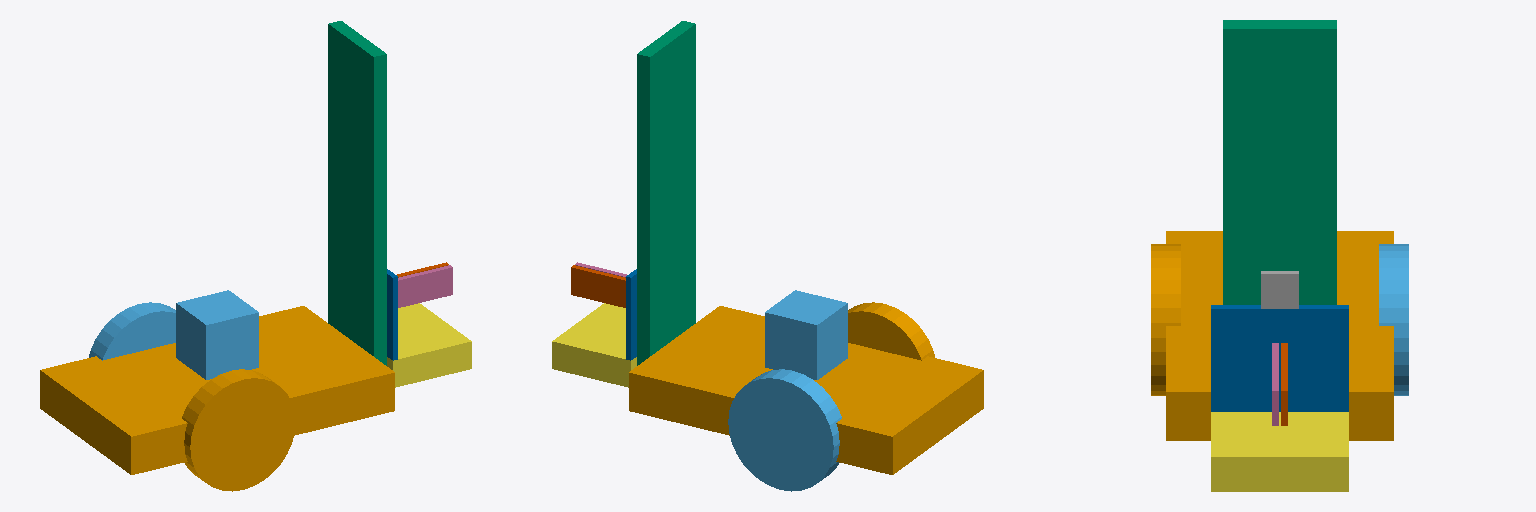
robot.urdf — lib_bot:
<?xml version="1.0" ?>
<robot name="lib_bot">

    <link name="base_link">
        <!-- pose and inertial -->
        <pose>0 0 0.1 0 0 0</pose>
        
<inertial>
            <mass value="5" />
            <origin rpy="0 0 0" xyz="0 0 0.1" />
            <inertia ixx="0.0395416666667" ixy="0" ixz="0" iyy="0.106208333333" iyz="0" izz="0.106208333333" />
        </inertial>

        <collision name="collision_chassis">
            <geometry>
                <box size="0.5 0.3 0.07" />
            </geometry>
        </collision>
        <visual>
            <origin rpy="0 0 0" xyz="0 0 0" />
            <geometry>
                <box size="0.5 0.3 0.07" />
            </geometry>
        </visual>
        <!-- caster front -->
        <collision name="caster_front_collision">
            <origin rpy=" 0 0 0" xyz="0.35 0 -0.05" />
            <geometry>
                <sphere radius="0.05" />
            </geometry>
            <surface>
                <friction>
                    <ode>
                        <mu>0</mu>
                        <mu2>0</mu2>
                        <slip1>0.0</slip1>
                        <slip2>0.0</slip2>
                    </ode>
                </friction>
            </surface>
        </collision>
        <visual name="caster_front_visual">
            <origin rpy=" 0 0 0" xyz="0.2 0 -0.05" />
            <geometry>
                <sphere radius="0.05" />
            </geometry>
        </visual>
    </link>
    <!-- Create wheel right -->
    <link name="link_right_wheel">
        <!-- inertial>
      <mass value="0.2"/>
      <origin rpy="0 1.5707 1.5707" xyz="0 0 0"/>
      <inertia ixx="0.00052666666" ixy="0" ixz="0" iyy="0.00052666666" iyz="0" izz="0.001"/>
    </inertial -->
        
<inertial>
            <origin xyz="0 0 0" rpy="0 0 0" />
            <mass value="0.5" />
            <inertia ixx="0.0014541666666666665" ixy="0.0" ixz="0.0" iyy="0.0010416666666666667" iyz="0.0" izz="0.0022874999999999996" />
        </inertial>
        <collision name="link_right_wheel_collision">
            <origin rpy="0 1.5707 1.5707" xyz="0 0 0" />
            <geometry>
                <cylinder length="0.04" radius="0.1" />
            </geometry>
        </collision>
        <visual name="link_right_wheel_visual">
            <origin rpy="0 1.5707 1.5707" xyz="0 0 0" />
            <geometry>
                <cylinder length="0.04" radius="0.1" />
            </geometry>
        </visual>
    </link>
    <link name="tower_link">
        <visual>
            <origin rpy="0 0 0" xyz="0 0 0.275" />
            <geometry>
                <box size="0.025 0.15 0.60" />
            </geometry>
        </visual>
        <collision>
            <origin xyz="0 0 0.275" rpy="0 0 0" />
            <geometry>
                <box size="0.025 0.15 0.60" />
            </geometry>
        </collision>
        <inertial>
            <origin xyz="0 0 0" rpy="0 0 0" />
            <mass value="0.5" />
            <inertia ixx="0.0014541666666666665" ixy="0.0" ixz="0.0" iyy="0.0010416666666666667" iyz="0.0" izz="0.0022874999999999996" />
        </inertial>
    </link>
    <link name="elevtor_link">
        <visual>
            <origin rpy="0 0 0" xyz="0 0 0" />
            <geometry>
                <box size="0.15 0.18 0.05" />
            </geometry>
        </visual>
        <collision>
            <origin xyz="0 0 0" rpy="0 0 0" />
            <geometry>
                <box size="0.15 0.18 0.05" />
            </geometry>
        </collision>
        <inertial>
            <origin xyz="0 0 0" rpy="0 0 0" />
            <mass value="0.5" />
            <inertia ixx="0.0014541666666666665" ixy="0.0" ixz="0.0" iyy="0.0010416666666666667" iyz="0.0" izz="0.0022874999999999996" />
        </inertial>
        <!--inertial>
            <origin xyz="0 0 0.275" rpy="0 0 0"/>
            <mass value="2.5" />
            <inertia ixx="0.07968750000000001" ixy="0.0" ixz="0.0" iyy="0.07513020833333334" iyz="0.0" izz="0.0048177083333333336"/>
        </inertial-->
    </link>
    <link name="push_link">
        <visual>
            <origin rpy="0 0 0" xyz="0 0 0" />
            <geometry>
                <box size="0.01 0.18 0.15" />
            </geometry>
        </visual>
        <collision>
            <origin xyz="0 0 0" rpy="0 0 0" />
            <geometry>
                <box size="0.01 0.18 0.15" />
            </geometry>
        </collision>
        <inertial>
            <origin xyz="0 0 0" rpy="0 0 0" />
            <mass value="0.05" />
            <inertia ixx="0.00022874999999999998" ixy="0.0" ixz="0.0" iyy="9.416666666666666e-05" iyz="0.0" izz="0.00013541666666666666" />
        </inertial>
    </link>
    <link name="jaw_1_link">
        <visual>
            <origin rpy="0 0 0" xyz="0 0 0" />
            <geometry>
                <box size="0.15 0.01 0.05" />
            </geometry>
        </visual>
        <collision>
            <origin xyz="0 0 0" rpy="0 0 0" />
            <geometry>
                <box size="0.15 0.01 0.05" />
            </geometry>
        </collision>
        <inertial>
            <origin xyz="0 0 0" rpy="0 0 0" />
            <mass value="0.05" />
            <inertia ixx="0.00022874999999999998" ixy="0.0" ixz="0.0" iyy="9.416666666666666e-05" iyz="0.0" izz="0.00013541666666666666" />
        </inertial>
    </link>
    <link name="jaw_2_link">
        <visual>
            <origin rpy="0 0 0" xyz="0 0 0" />
            <geometry>
                <box size="0.15 0.01 0.05" />
            </geometry>
        </visual>
        <collision>
            <origin xyz="0 0 0" rpy="0 0 0" />
            <geometry>
                <box size="0.15 0.01 0.05" />
            </geometry>
        </collision>
        <inertial>
            <origin xyz="0 0 0" rpy="0 0 0" />
            <mass value="0.05" />
            <inertia ixx="0.00022874999999999998" ixy="0.0" ixz="0.0" iyy="9.416666666666666e-05" iyz="0.0" izz="0.00013541666666666666" />
        </inertial>
    </link>
    <link name="camera">
        <visual>
            <origin xyz="0 0 0" rpy="0 0 0" />
            <geometry>
                <box size="0.01 0.05 0.05" />
            </geometry>
        </visual>
        <collision>
            <origin xyz="0 0 0" rpy="0 0 0" />
            <geometry>
                <box size="0.05 0.05 0.05" />
            </geometry>
        </collision>
        <inertial>
            <origin xyz="0 0 0" rpy="0 0 0" />
            <mass value="0.05" />
            <inertia ixx="4.166666666666667e-05" ixy="0.0" ixz="0.0" iyy="2.166666666666667e-05" iyz="0.0" izz="2.166666666666667e-05" />
        </inertial>
    </link>
    <!--   Joint for right wheel  -->
    <joint name="joint_right_wheel" type="continuous">
        <origin rpy="0 0 0" xyz="-0.05 0.15 0" />
        <child link="link_right_wheel" />
        <parent link="base_link" />
        <axis rpy="0 0 0" xyz="0 1 0" />
        <limit effort="10000" velocity="1000" />
        <joint_properties damping="1.0" friction="1.0" />
    </joint>
    <!-- Left Wheel link -->
    <link name="link_left_wheel">
        <!-- inertial>
      <mass value="0.2"/>
      <origin rpy="0 1.5707 1.5707" xyz="0 0 0"/>
      <inertia ixx="0.00052666666" ixy="0" ixz="0" iyy="0.00052666666" iyz="0" izz="0.001"/>
    </inertial -->
        <inertial>
            <origin xyz="0 0 0" rpy="0 0 0" />
            <mass value="0.5" />
            <inertia ixx="0.0014541666666666665" ixy="0.0" ixz="0.0" iyy="0.0010416666666666667" iyz="0.0" izz="0.0022874999999999996" />
        </inertial>
        <collision name="link_left_wheel_collision">
            <origin rpy="0 1.5707 1.5707" xyz="0 0 0" />
            <geometry>
                <cylinder length="0.04" radius="0.1" />
            </geometry>
        </collision>
        <visual name="link_left_wheel_visual">
            <origin rpy="0 1.5707 1.5707" xyz="0 0 0" />
            <geometry>
                <cylinder length="0.04" radius="0.1" />
            </geometry>
        </visual>
    </link>
    <link name="hokuyo">
        <collision>
            <origin xyz="0 0 0" rpy="0 0 0" />
            <geometry>
                <box size="0.1 0.1 0.1" />
            </geometry>
        </collision>
        <visual>
            <origin xyz="0 0 0" rpy="0 0 0" />
            <geometry>
                <box size="0.1 0.1 0.1" />
            </geometry>
        </visual>
        <inertial>
            <mass value="1e-5" />
            <origin xyz="0 0 0" rpy="0 0 0" />
            <inertia ixx="1e-6" ixy="0" ixz="0" iyy="1e-6" iyz="0" izz="1e-6" />
        </inertial>
    </link>
    <!--   Joint for right wheel  -->
    <joint name="joint_left_wheel" type="continuous">
        <origin rpy="0 0 0" xyz="-0.05 -0.15 0" />
        <child link="link_left_wheel" />
        <parent link="base_link" />
        <axis rpy="0 0 0" xyz="0 1 0" />
        <limit effort="10000" velocity="1000" />
        <joint_properties damping="1.0" friction="1.0" />
    </joint>
    <joint name="base_link_tower_link_joint" type="fixed">
        <origin xyz="0.265 0 0" rpy="0 0 0" />
        <parent link="base_link" />
        <child link="tower_link" />
    </joint>
    <joint name="tower_link_elevtor_link_joint" type="prismatic">
        <axis xyz="0 0 1" />
        <parent link="tower_link" />
        <child link="elevtor_link" />
        <limit effort="1000.0" lower="0" upper="0.55" velocity="0.2" />
        <origin rpy="0 0 0" xyz="0.090 0 0" />
    </joint>
    <joint name="elevtor_link_push_link_joint" type="prismatic">
        <axis xyz="1 0 0" />
        <parent link="elevtor_link" />
        <child link="push_link" />
        <limit effort="1000.0" lower="0" upper="0.14" velocity="0.2" />
        <origin rpy="0 0 0" xyz="-0.070 0 0.1" />
    </joint>
    <joint name="push_link_jaw_1_joint" type="prismatic">
        <axis xyz="0 1 0" />
        <parent link="push_link" />
        <child link="jaw_1_link" />
        <limit effort="1000.0" lower="0" upper="0.075" velocity="0.2" />
        <origin rpy="0 0 0" xyz="0.080 0.006 0" />
    </joint>
    <joint name="push_link_jaw_2_joint" type="prismatic">
        <axis xyz="0 1 0" />
        <parent link="push_link" />
        <child link="jaw_2_link" />
        <limit effort="1000.0" lower="-0.075" upper="0" velocity="0.2" />
        <origin rpy="0 0 0" xyz="0.080 -0.006 0" />
    </joint>
    <joint name="camera_joint" type="fixed">
        <axis xyz="0 1 0" />
        <origin xyz="0 0 0.1" rpy="0 0 0" />
        <parent link="push_link" />
        <child link="camera" />
    </joint>
    <joint name="hokuyo_joint" type="fixed">
        <axis xyz="0 1 0" />
        <origin xyz="0 0 .1" rpy="0 0 3.14" />
        <parent link="base_link" />
        <child link="hokuyo" />
    </joint>


    <transmission name="trans_joint_right_wheel">
        <type>transmission_interface/SimpleTransmission</type>
        <joint name="joint_right_wheel">
            <hardwareInterface>hardware_interface/EffortJointInterface</hardwareInterface>
        </joint>
        <actuator name="joint_right_wheel_motor">
            <hardwareInterface>hardware_interface/EffortJointInterface</hardwareInterface>
            <mechanicalReduction>1</mechanicalReduction>
        </actuator>
    </transmission>
    <transmission name="trans_joint_left_wheel">
        <type>transmission_interface/SimpleTransmission</type>
        <joint name="joint_left_wheel">
            <hardwareInterface>hardware_interface/EffortJointInterface</hardwareInterface>
        </joint>
        <actuator name="joint_left_wheel_motor">
            <hardwareInterface>hardware_interface/EffortJointInterface</hardwareInterface>
            <mechanicalReduction>1</mechanicalReduction>
        </actuator>
    </transmission>
    <transmission name="trans_tower_link_elevtor_link_joint">
        <type>transmission_interface/SimpleTransmission</type>
        <joint name="tower_link_elevtor_link_joint">
            <hardwareInterface>hardware_interface/EffortJointInterface</hardwareInterface>
        </joint>
        <actuator name="tower_link_elevtor_link_joint_motor">
            <hardwareInterface>hardware_interface/EffortJointInterface</hardwareInterface>
            <mechanicalReduction>1</mechanicalReduction>
        </actuator>
    </transmission>
    <transmission name="trans_elevtor_link_push_link_joint">
        <type>transmission_interface/SimpleTransmission</type>
        <joint name="elevtor_link_push_link_joint">
            <hardwareInterface>hardware_interface/EffortJointInterface</hardwareInterface>
        </joint>
        <actuator name="elevtor_link_push_link_joint_motor">
            <hardwareInterface>hardware_interface/EffortJointInterface</hardwareInterface>
            <mechanicalReduction>1</mechanicalReduction>
        </actuator>
    </transmission>
    <transmission name="trans_push_link_jaw_1_joint">
        <type>transmission_interface/SimpleTransmission</type>
        <joint name="push_link_jaw_1_joint">
            <hardwareInterface>hardware_interface/EffortJointInterface</hardwareInterface>
        </joint>
        <actuator name="push_link_jaw_1_joint_motor">
            <hardwareInterface>hardware_interface/EffortJointInterface</hardwareInterface>
            <mechanicalReduction>1</mechanicalReduction>
        </actuator>
    </transmission>
    <transmission name="trans_push_link_jaw_2_joint">
        <type>transmission_interface/SimpleTransmission</type>
        <joint name="push_link_jaw_2_joint">
            <hardwareInterface>hardware_interface/EffortJointInterface</hardwareInterface>
        </joint>
        <actuator name="push_link_jaw_2_joint_motor">
            <hardwareInterface>hardware_interface/EffortJointInterface</hardwareInterface>
            <mechanicalReduction>1</mechanicalReduction>
        </actuator>
    </transmission>
    <gazebo>
        <plugin name="gazebo_ros_control" filename="libgazebo_ros_control.so">
            <robotNamespace>/</robotNamespace>
        </plugin>
    </gazebo>
</robot>

--- Facts derived from the render (not from the file) ---
3 views of the same robot in one strip: view 1: azimuth 30°, elevation 25°; view 2: azimuth 150°, elevation 25°; view 3: azimuth 270°, elevation 25° (orthographic).
Robot: lib_bot — 10 links, 9 joints (2 continuous, 4 prismatic, 3 fixed); root link base_link; default pose: all joints at 0.
Links seen in each view (by area): view 1: base_link, tower_link, link_left_wheel, hokuyo, elevtor_link, link_right_wheel, jaw_2_link, push_link; view 2: base_link, tower_link, link_right_wheel, hokuyo, elevtor_link, link_left_wheel, jaw_1_link, push_link; view 3: tower_link, base_link, push_link, elevtor_link, link_right_wheel, link_left_wheel, camera, jaw_1_link, jaw_2_link.
Link boxes in pixels (x1,y1,x2,y2): base_link: (40, 306, 394, 474); tower_link: (328, 21, 386, 365); link_left_wheel: (182, 369, 295, 491); hokuyo: (176, 290, 258, 379); elevtor_link: (387, 303, 471, 387); link_right_wheel: (89, 302, 175, 360); jaw_2_link: (398, 265, 452, 307); push_link: (387, 269, 397, 360); base_link: (629, 306, 983, 474); tower_link: (637, 21, 695, 365); link_right_wheel: (728, 369, 841, 491); hokuyo: (765, 290, 847, 379); elevtor_link: (552, 303, 636, 387); link_left_wheel: (848, 302, 934, 360); jaw_1_link: (571, 265, 625, 307); push_link: (626, 269, 636, 360); tower_link: (1223, 20, 1336, 304); base_link: (1166, 231, 1393, 440); push_link: (1211, 305, 1348, 411); elevtor_link: (1211, 412, 1348, 491); link_right_wheel: (1379, 244, 1408, 395); link_left_wheel: (1151, 244, 1180, 395); camera: (1261, 271, 1298, 308); jaw_1_link: (1281, 343, 1287, 425); jaw_2_link: (1272, 343, 1278, 425).
Size in the robot's own frame: 0.69 by 0.34 by 0.675 metres.
Geometry: primitives only (box / cylinder / sphere), no mesh files.